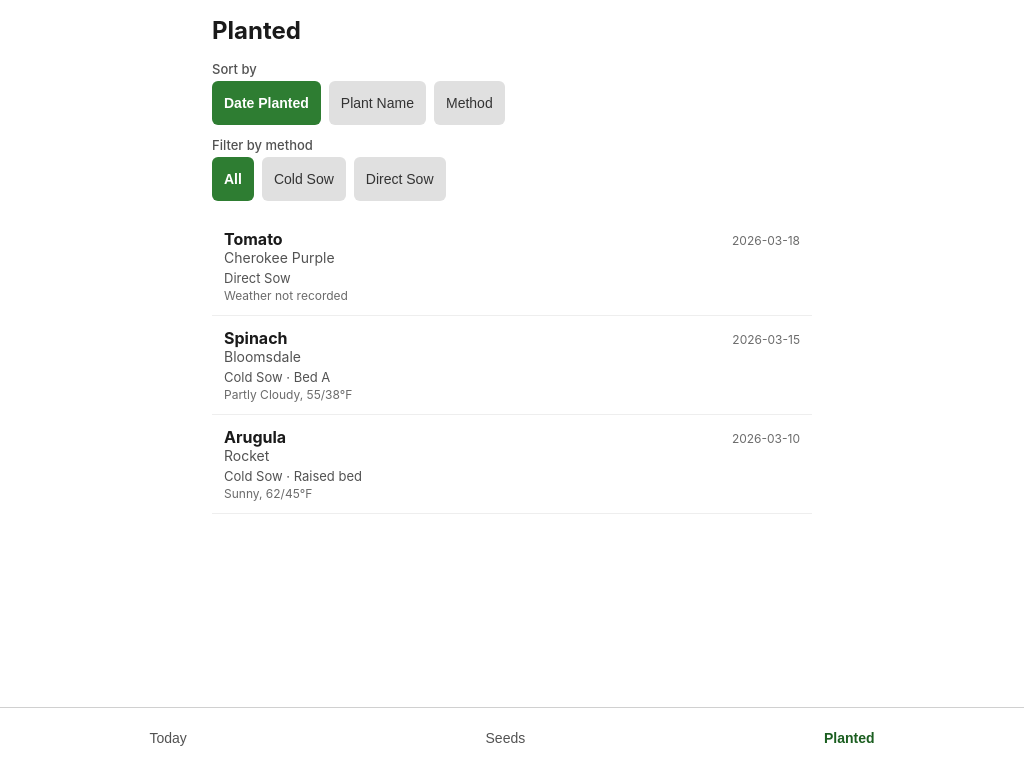
Test: Planted page › navigates to planting detail on click
Note: Click on Spinach planting row
Click the list item with aria-label "Spinach planted 2026-03-15".
click(512, 366)  # box [212, 316, 812, 415]
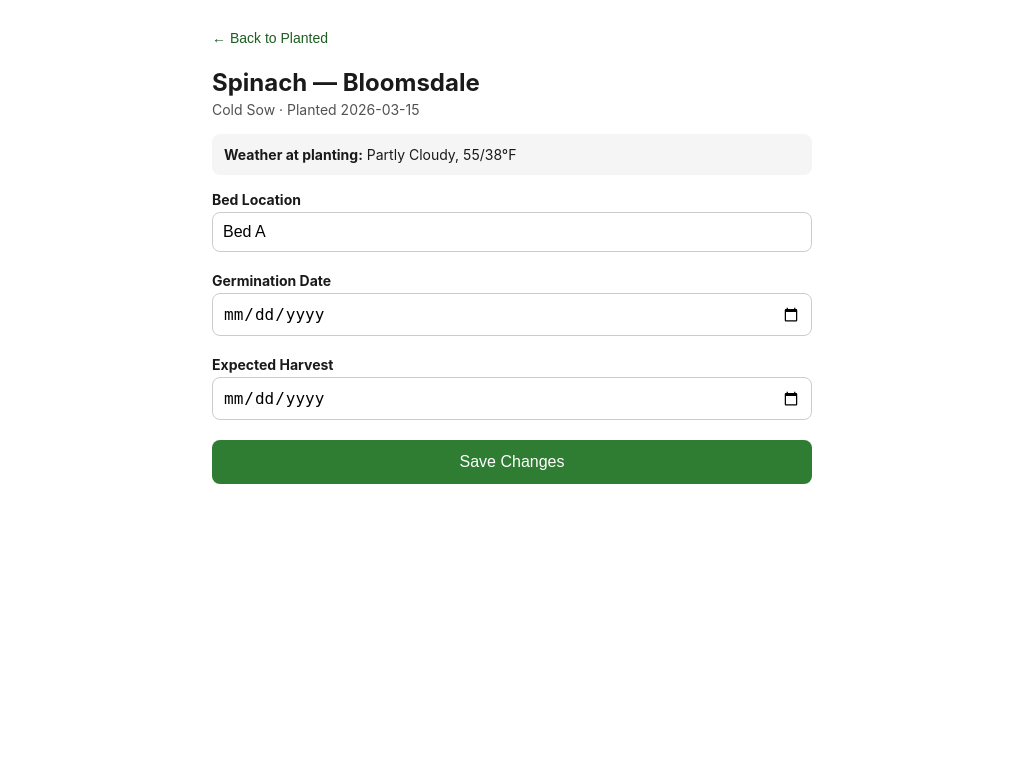
Check: the button "← Back to Planted" is shown, box [212, 16, 328, 60]
